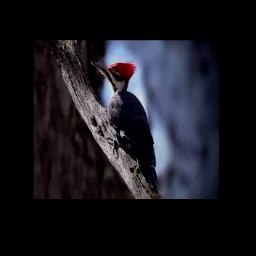Woodpecker: (91, 61, 158, 192)
